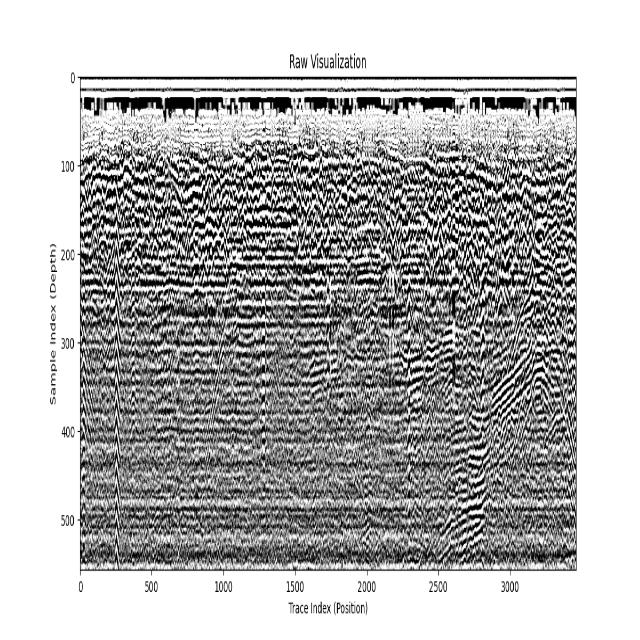anomaly: (456, 346, 573, 566)
